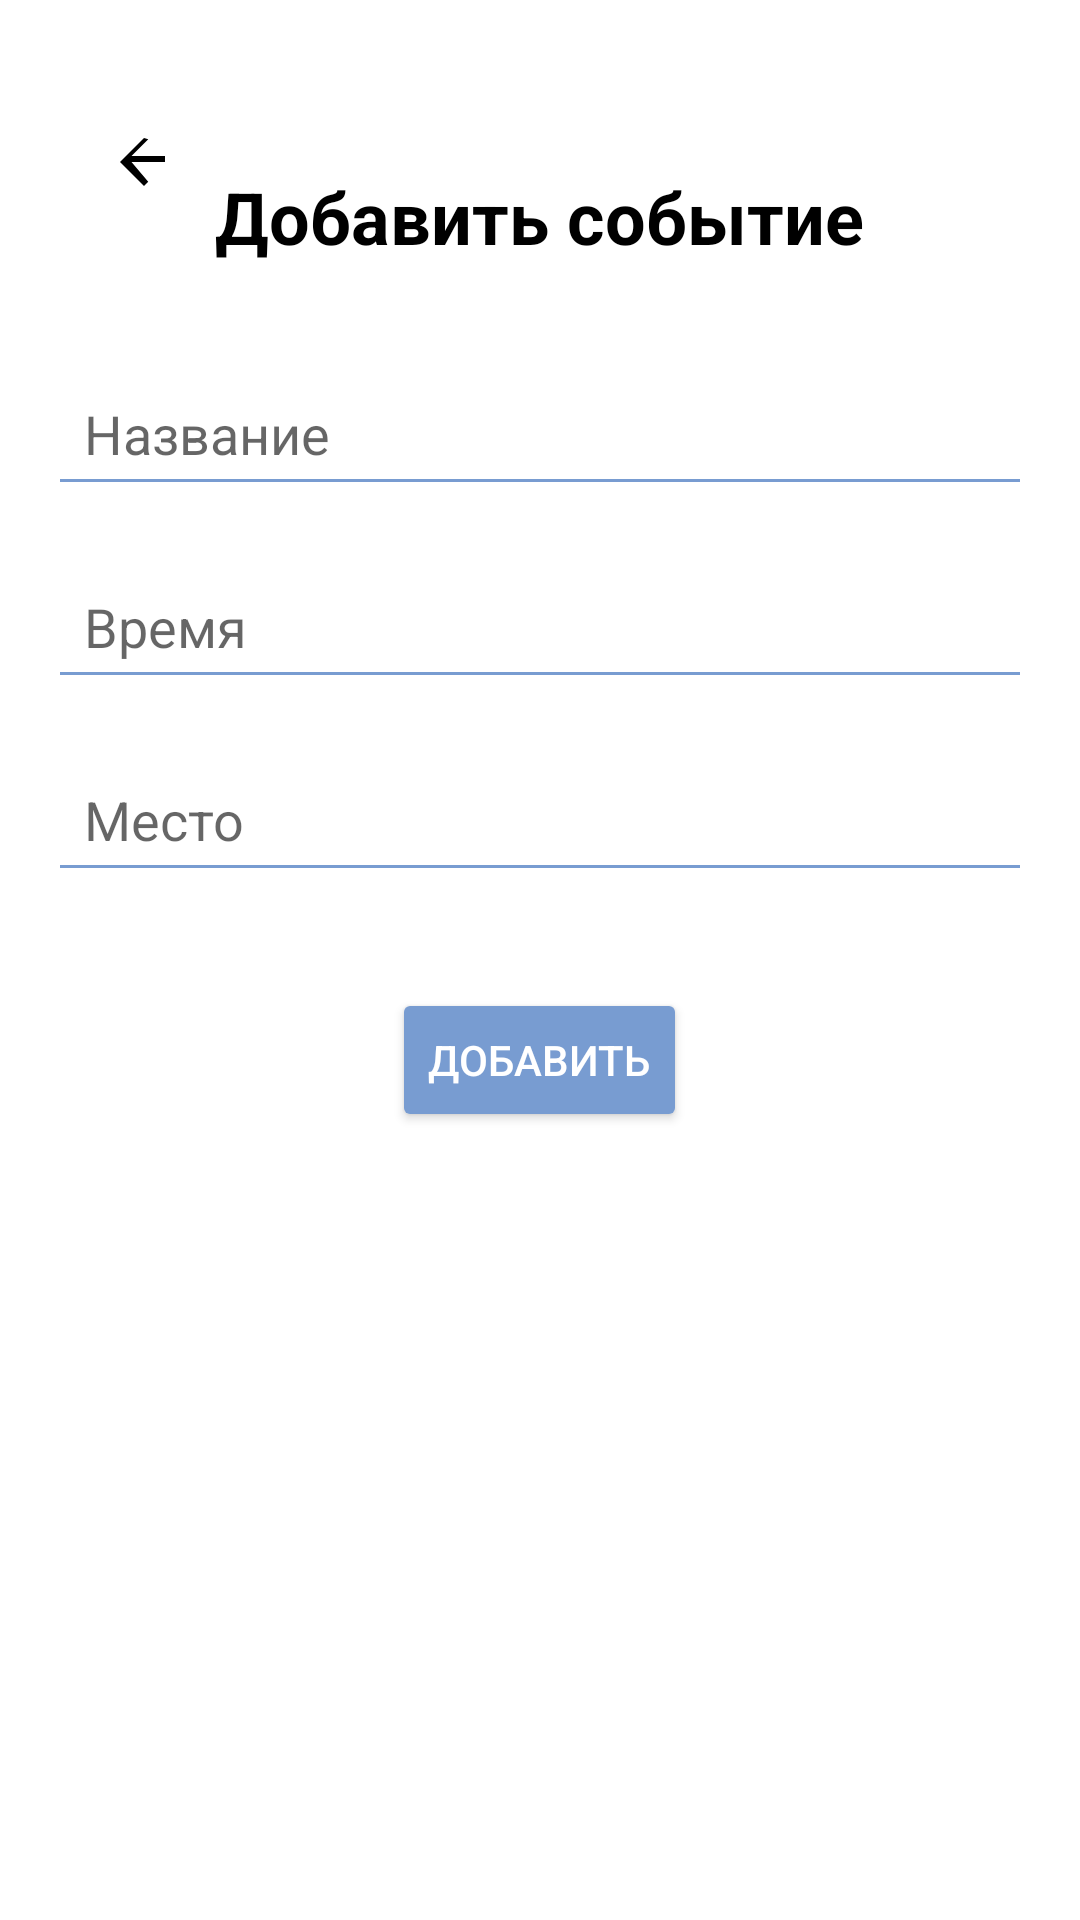

Named icons in this screenshot (1080w x 1920h) and their centers, (x=x, y=y):
Назад: (x=142, y=162)
